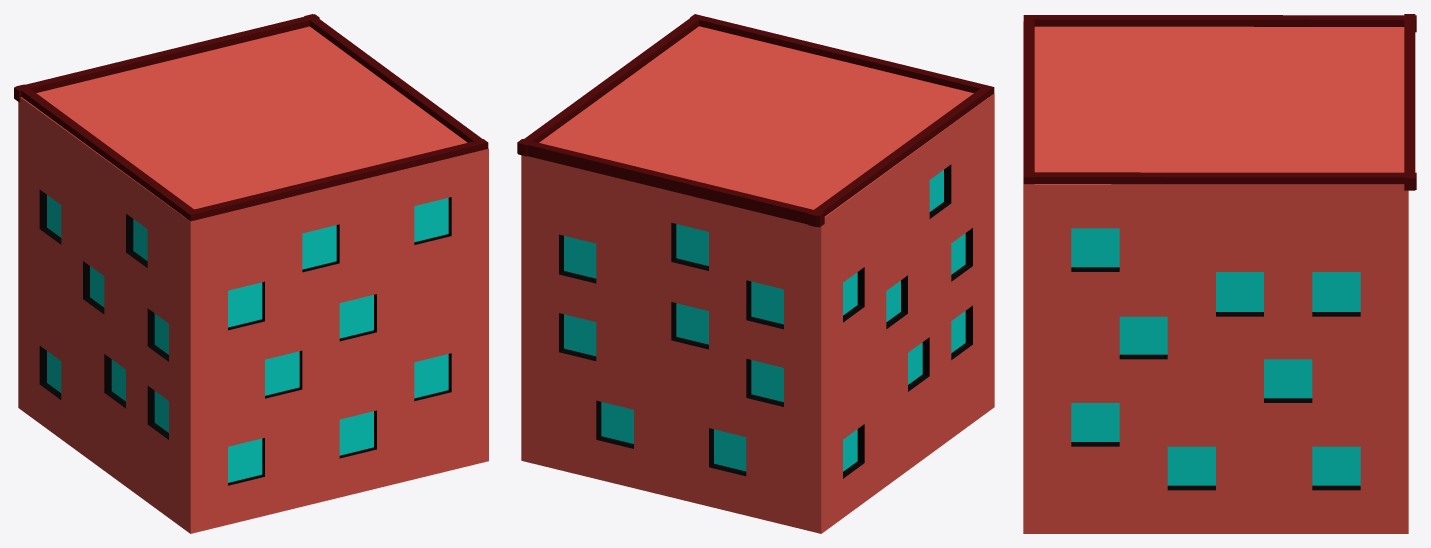
The model's file is building 14 .fbx.
3 views of the same model, side by side, from view 1: azimuth 30°, elevation 25°; view 2: azimuth 150°, elevation 25°; view 3: azimuth 270°, elevation 25° (orthographic). The views are drawn at different scales.
Parts seen in each view (by area): view 1: Cube, Cube.001, Cube.002, Cube.004, Cube.003; view 2: Cube, Cube.002, Cube.001, Cube.004, Cube.003; view 3: Cube, Cube.003, Cube.004, Cube.002, Cube.001.
Boxes of the visible parts, x1,y1,x2,y2 form: Cube: (18, 26, 488, 533); Cube.001: (185, 139, 488, 221); Cube.002: (14, 14, 319, 101); Cube.004: (15, 84, 196, 217); Cube.003: (304, 14, 485, 142); Cube: (521, 26, 994, 533); Cube.002: (517, 139, 824, 227); Cube.001: (690, 14, 994, 96); Cube.004: (808, 86, 988, 227); Cube.003: (518, 15, 698, 156); Cube: (1023, 22, 1408, 533); Cube.003: (1028, 172, 1416, 189); Cube.004: (1028, 15, 1416, 32); Cube.002: (1404, 14, 1415, 190); Cube.001: (1023, 15, 1034, 184).
Bounding box in the file's own units: 2555 × 2586 × 2586.
